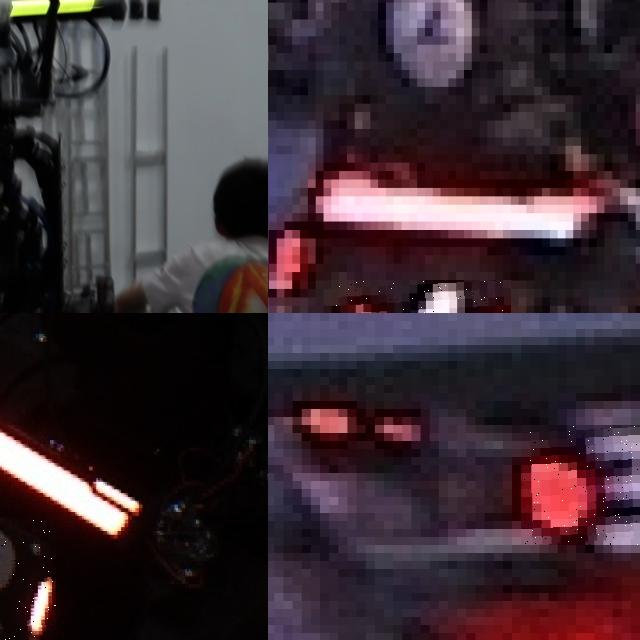R2: (0, 517, 55, 640)
R3: (521, 425, 640, 545)
R4: (331, 280, 510, 313)
